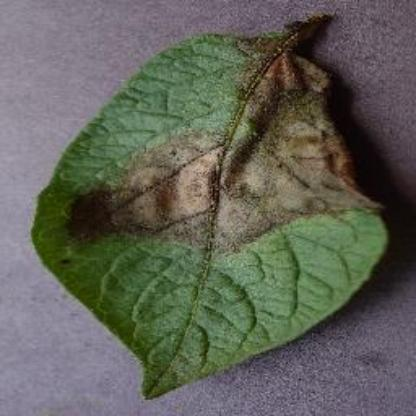Late-Blight: (14, 12, 396, 402)
